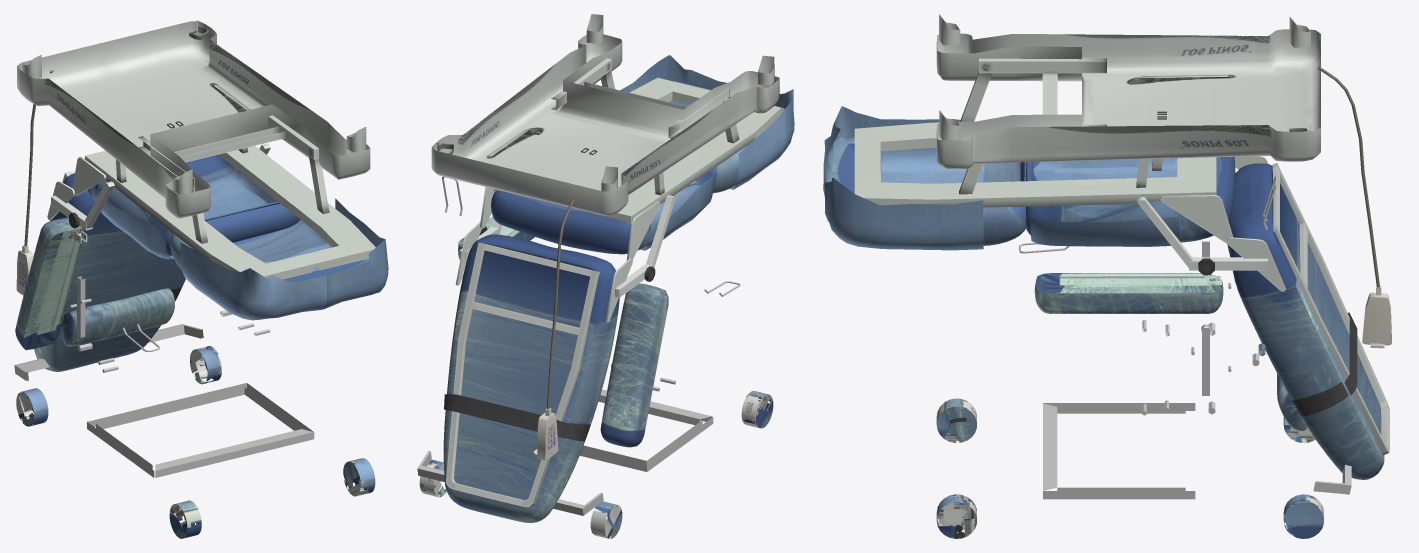
Rendered from camilla.FBX.
3 renders of one model, left to right at view 1: azimuth 30°, elevation 25°; view 2: azimuth 150°, elevation 25°; view 3: azimuth 270°, elevation 25°, orthographic. The views are drawn at different scales.
Visible parts, largest first — view 1: Camilla_pasiente, Cromo_camilla_pasiente, Negro_llantas_camilla, Blanco_llantas_camilla; view 2: Camilla_pasiente, Cromo_camilla_pasiente, Negro_llantas_camilla, Blanco_llantas_camilla; view 3: Camilla_pasiente, Cromo_camilla_pasiente, Negro_llantas_camilla, Blanco_llantas_camilla.
Part boxes in pixels (bbox=[...]): Camilla_pasiente: bbox=[15, 20, 388, 371]; Cromo_camilla_pasiente: bbox=[14, 276, 314, 477]; Negro_llantas_camilla: bbox=[16, 346, 375, 538]; Blanco_llantas_camilla: bbox=[19, 355, 358, 533]; Camilla_pasiente: bbox=[431, 14, 794, 522]; Cromo_camilla_pasiente: bbox=[417, 176, 740, 515]; Negro_llantas_camilla: bbox=[419, 390, 773, 538]; Blanco_llantas_camilla: bbox=[423, 396, 770, 533]; Camilla_pasiente: bbox=[823, 14, 1391, 479]; Cromo_camilla_pasiente: bbox=[1019, 176, 1351, 499]; Negro_llantas_camilla: bbox=[936, 398, 1323, 538]; Blanco_llantas_camilla: bbox=[943, 405, 1317, 533].
Bounding box in the file's own units: 0.9702 × 1.59 × 2.
